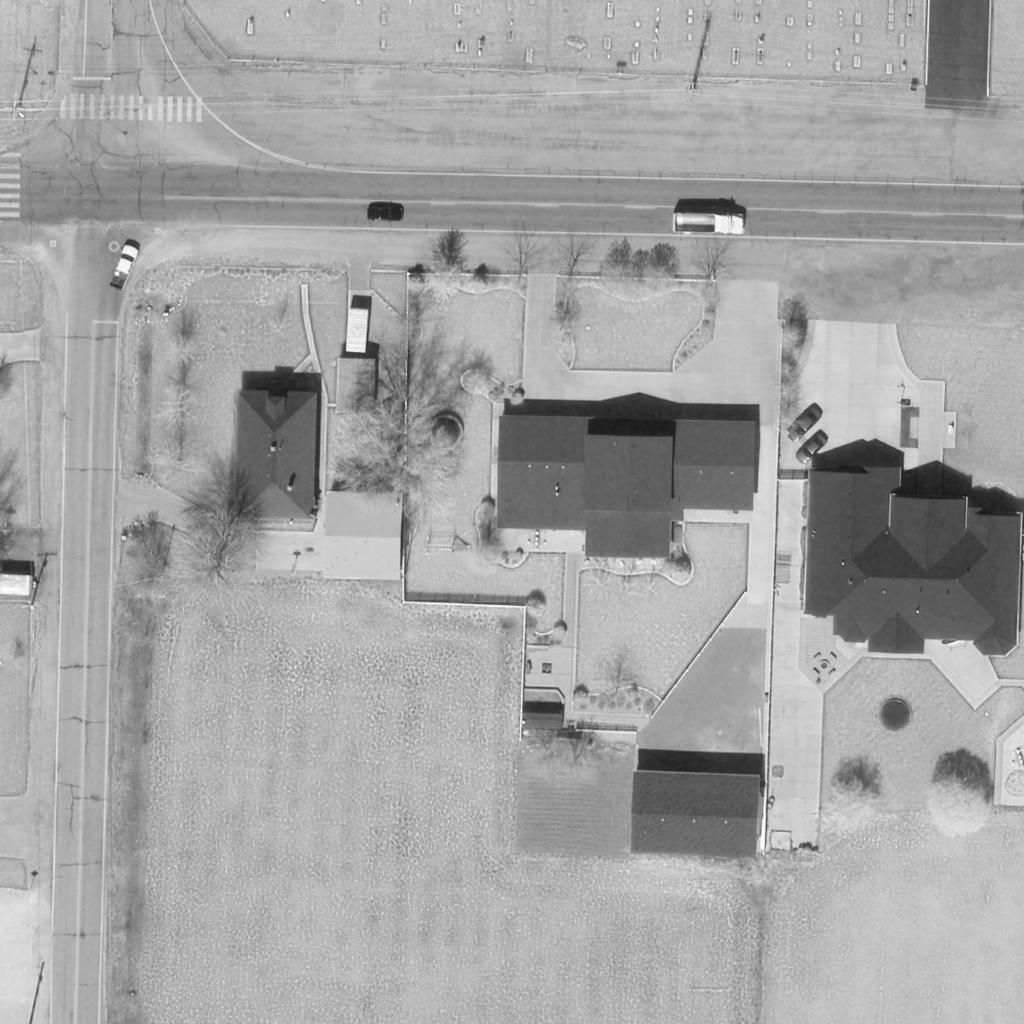vehicle: (671, 214, 747, 234), (787, 405, 825, 445), (108, 245, 140, 291), (794, 432, 830, 464), (344, 309, 370, 353), (363, 202, 407, 220)
